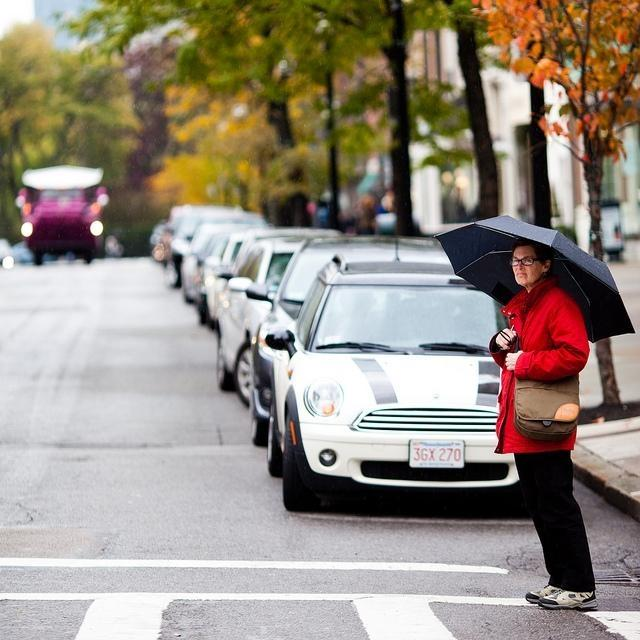bus: (17, 164, 108, 265)
car: (264, 257, 521, 514), (245, 236, 446, 442), (218, 232, 344, 410), (202, 228, 338, 328), (172, 222, 269, 321), (164, 205, 268, 288), (150, 205, 190, 264)
truck: (16, 164, 108, 264)
